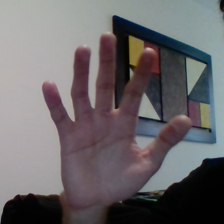left: (32, 26, 198, 210)
